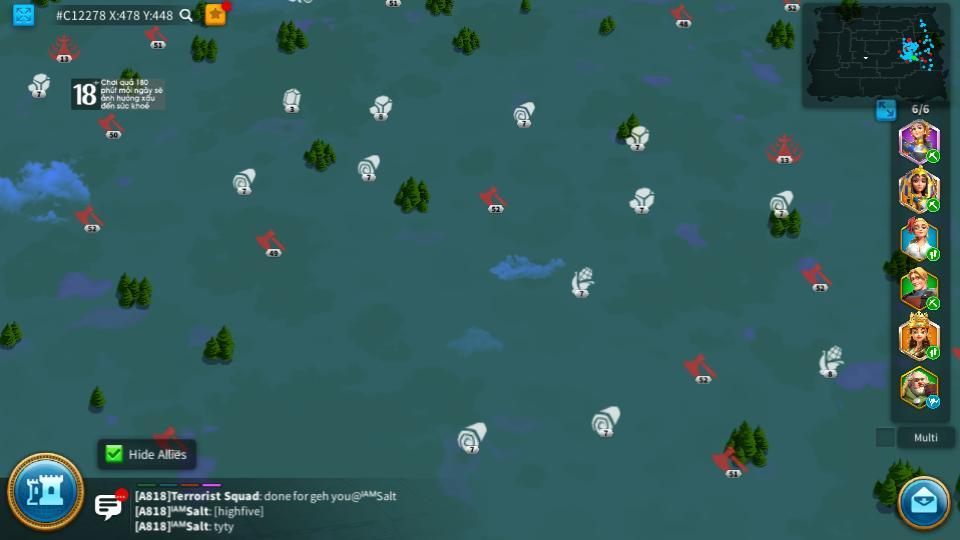gem-z-out: (282, 89, 302, 111)
march_idle: (925, 396, 942, 408)
march_marching: (925, 197, 941, 212), (925, 345, 941, 359), (925, 297, 942, 308), (925, 250, 942, 261), (925, 151, 941, 162)
